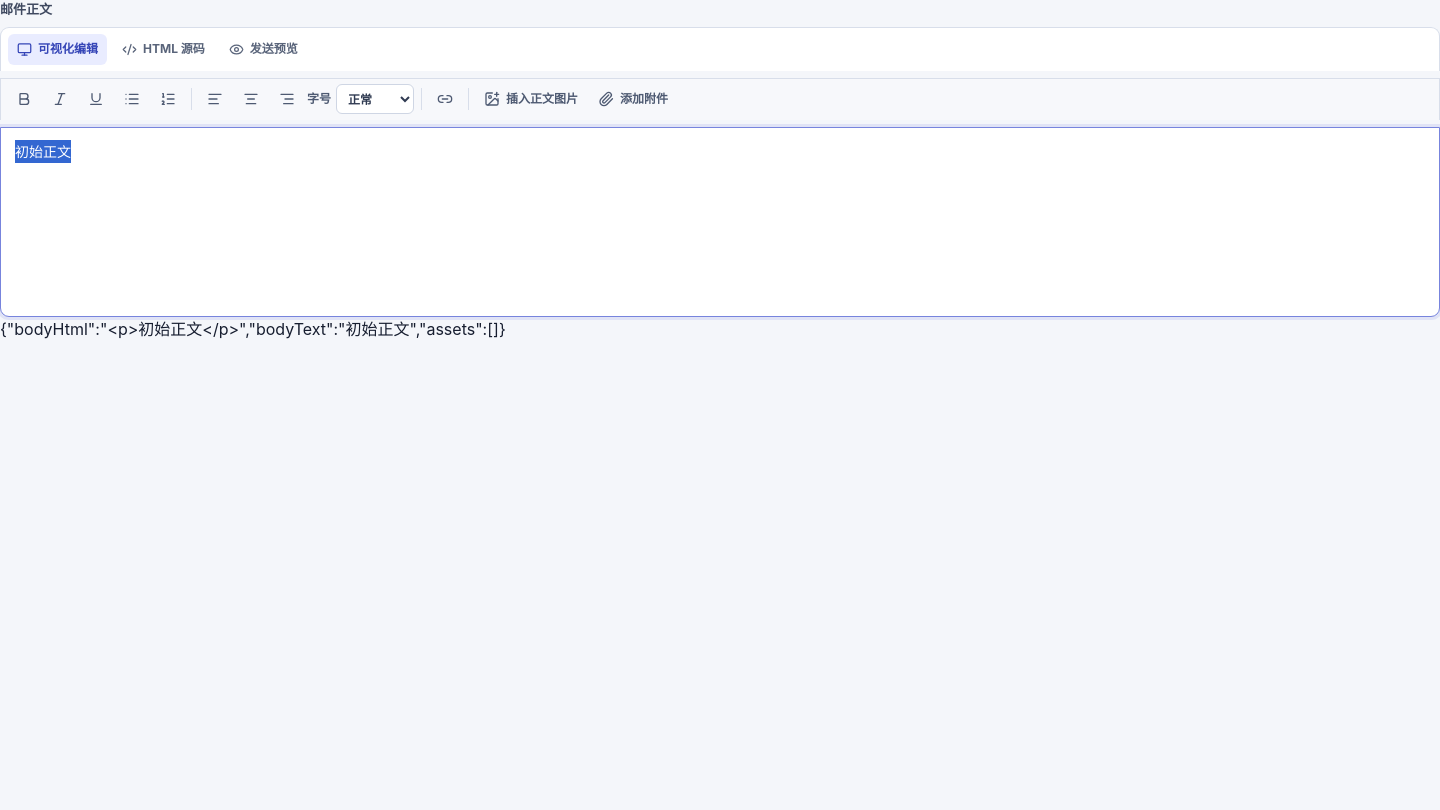
Test: MailRichEditor › rejects unsafe hyperlink schemes without changing content
Click the button named "超链接".
click(445, 99)  # box [429,84,461,114]
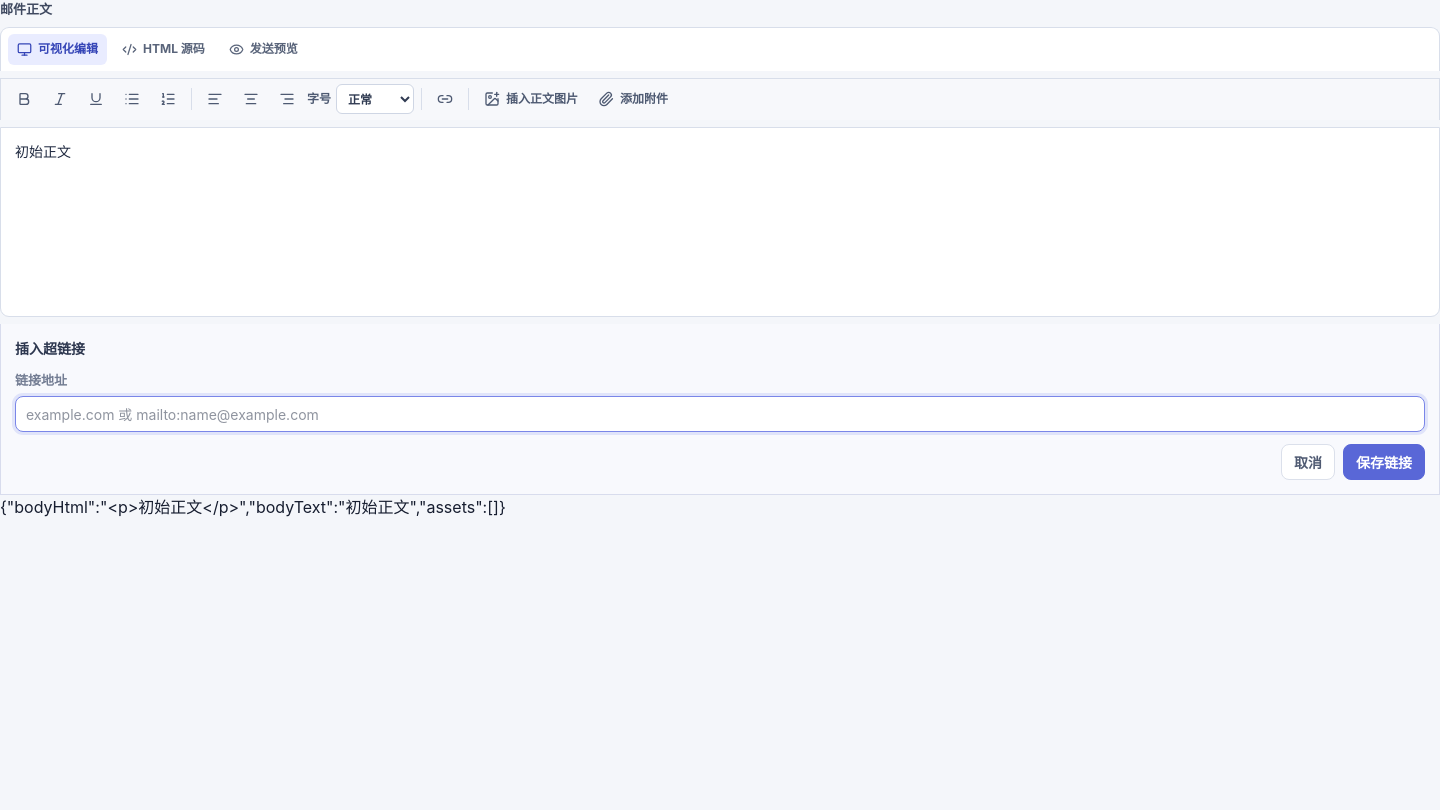
Type "javascript:alert(1)" into the field labelled "链接地址".
click(720, 414); type("javascript:alert(1)")  # box [15,396,1425,432]
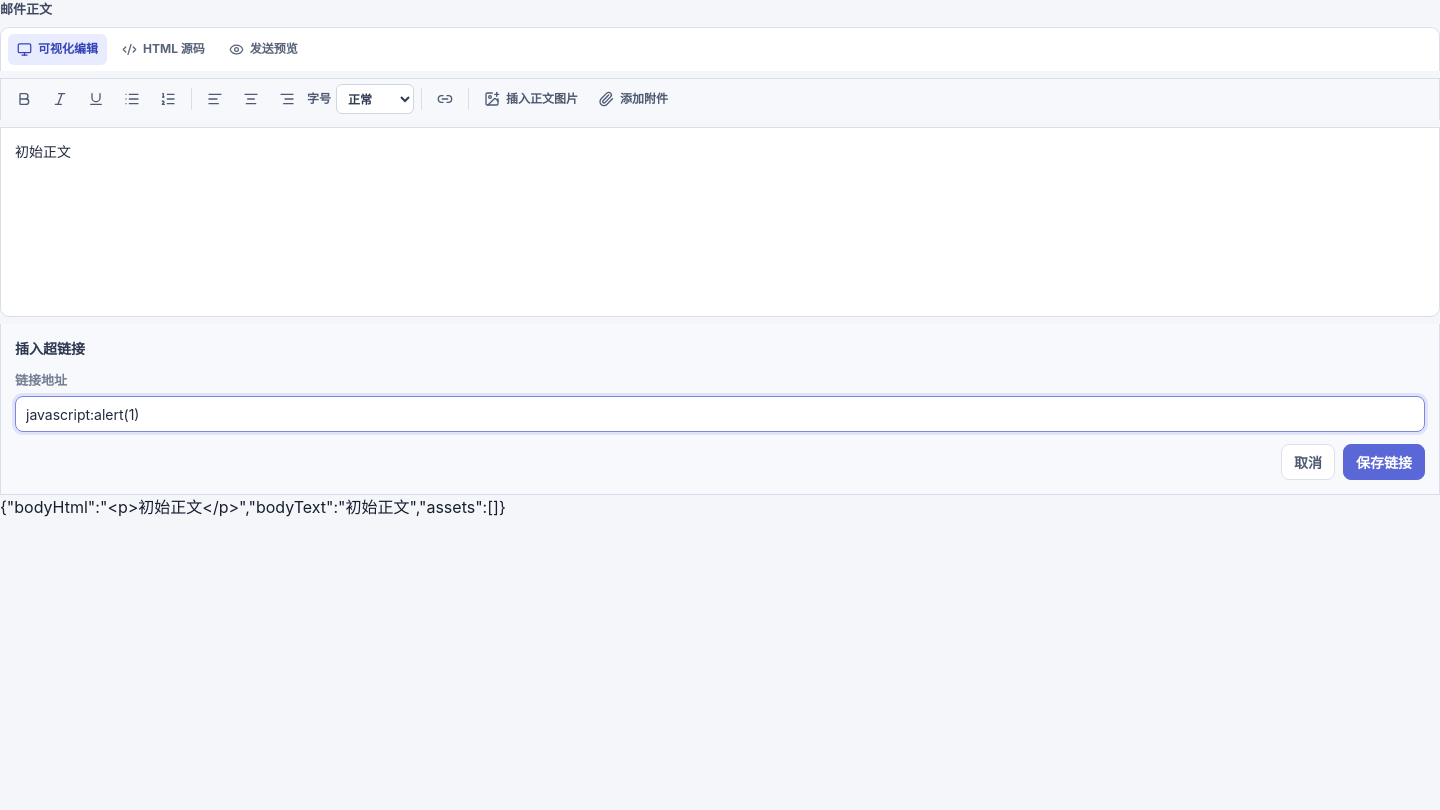
Click the button "保存链接".
click(1384, 462)  # box [1343,444,1425,480]
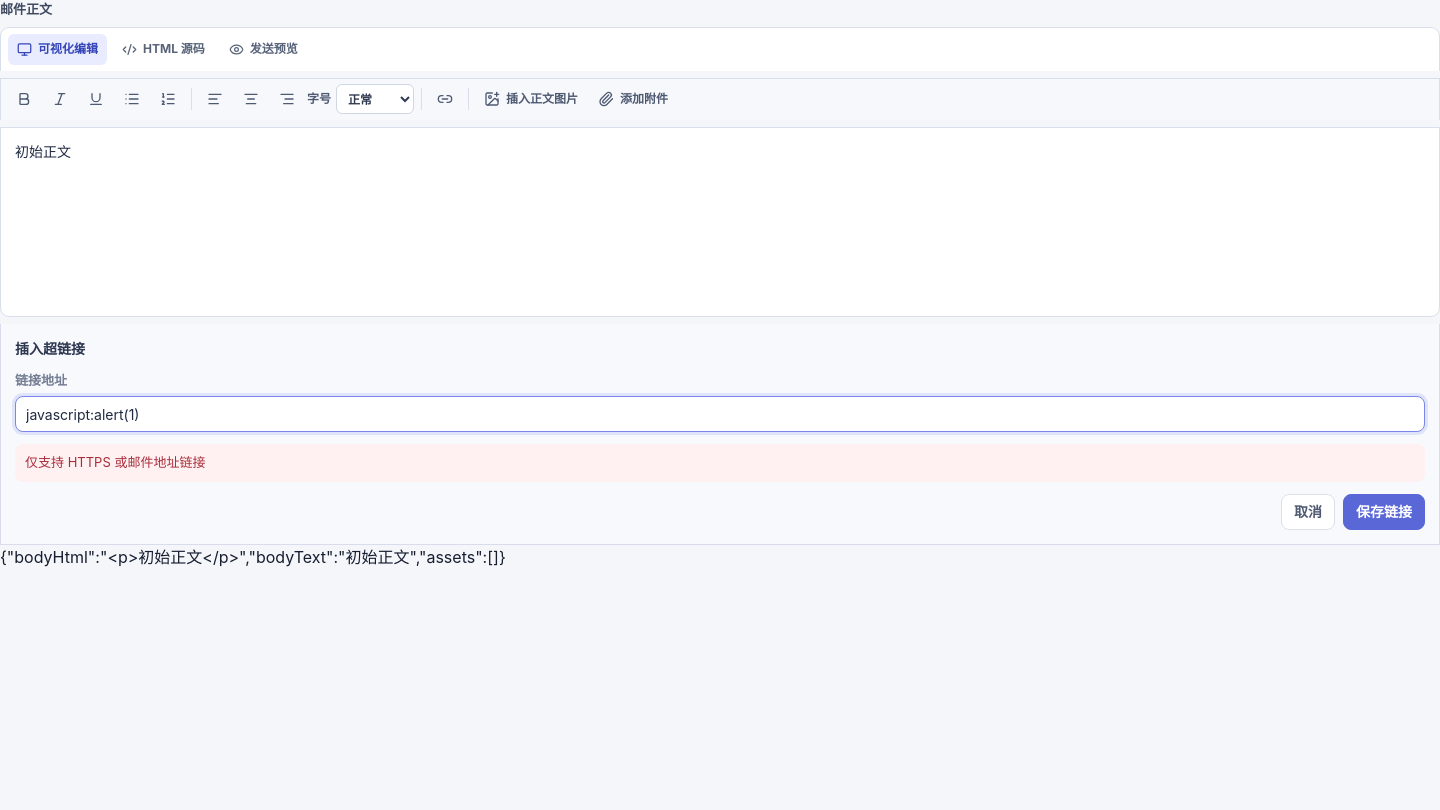
Expected: the text with test id "value" does not show "javascript:", [0,546,506,566]
Expected: the message reads "仅支持 HTTPS 或邮件地址链接", [25,454,205,470]
